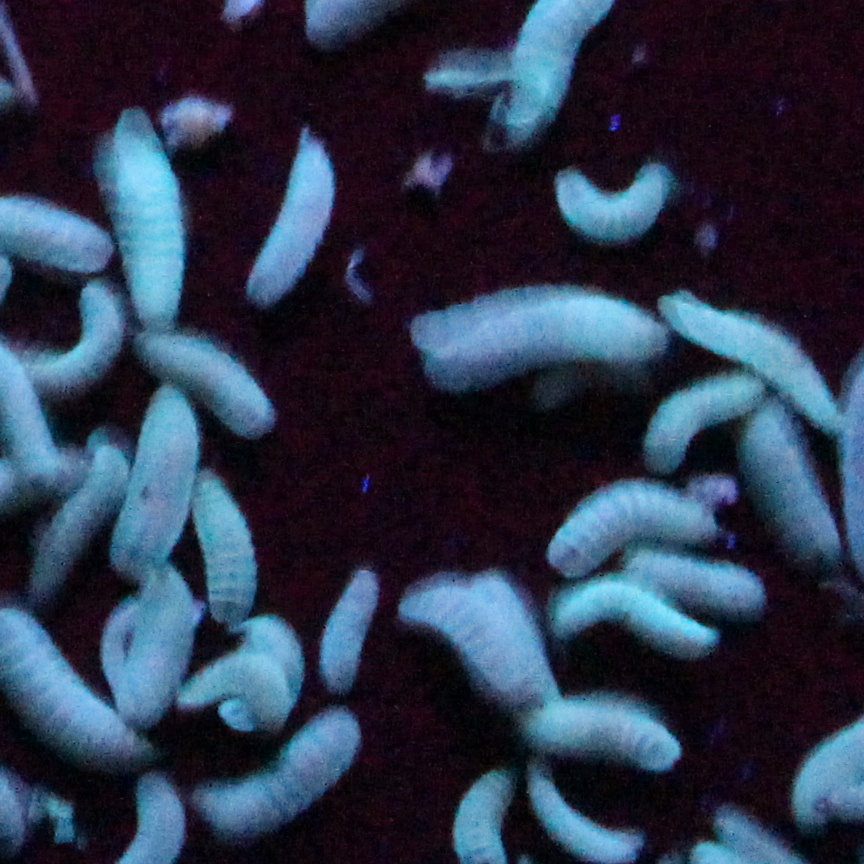larve: (659, 287, 851, 425), (411, 289, 665, 379), (184, 708, 357, 837), (96, 102, 188, 323), (396, 579, 548, 696), (740, 406, 848, 569), (548, 481, 719, 577), (130, 331, 286, 435), (251, 127, 336, 308), (648, 371, 765, 473), (526, 771, 648, 864), (626, 544, 771, 621), (551, 591, 723, 652), (515, 704, 684, 766), (555, 166, 673, 244), (313, 564, 380, 698)
